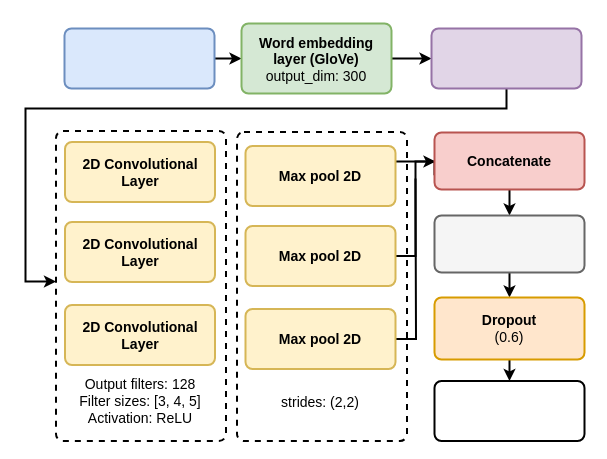
Image size: 607x459. Some labels were removed from this diagram. The shapes that lost their labels are listed below. From the top down, each one's box as (x1, y1, x2, y2) in pixels, then its label:
(63, 27, 215, 89): Input data (claim+evidence)
(430, 27, 582, 89): Reshaper
(433, 214, 585, 273): Flatten
(433, 380, 585, 442): Dense Activation: Sigmoid
